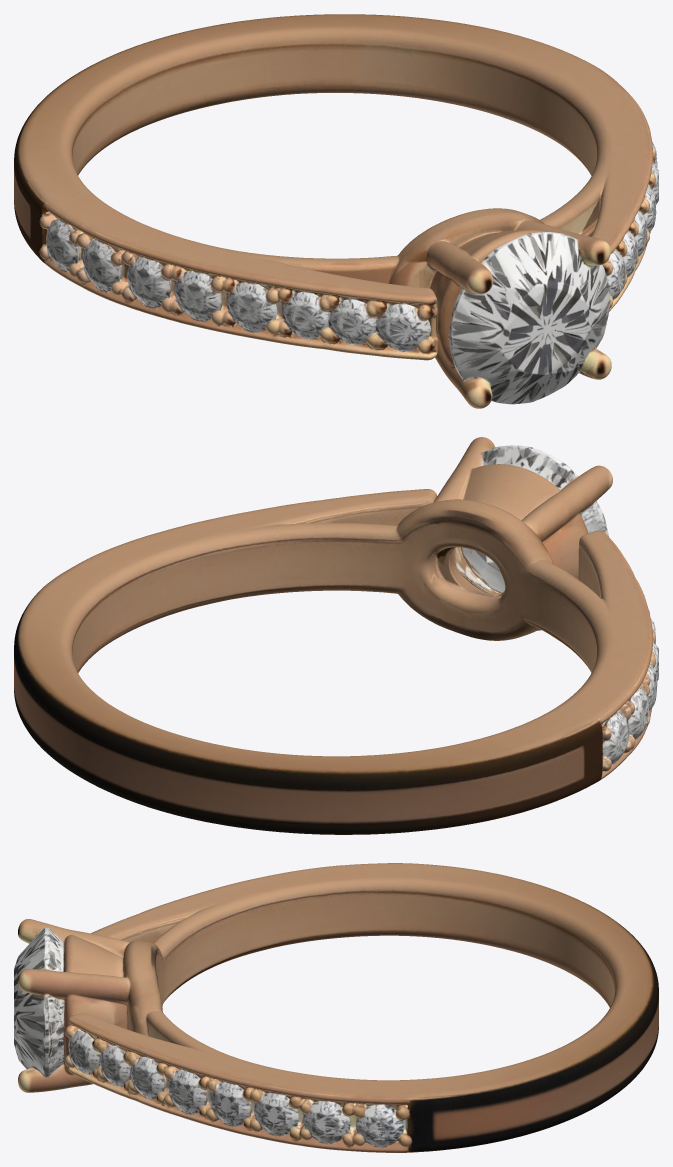
File: shay-ring-lo.glb
3 renders of one model, top to bottom at view 1: azimuth 30°, elevation 25°; view 2: azimuth 150°, elevation 25°; view 3: azimuth 270°, elevation 25°, orthographic. The views are drawn at different scales.
Bounding box in the file's own units: 1.69 × 0.4732 × 1.9.
1 material, 1 textured.
